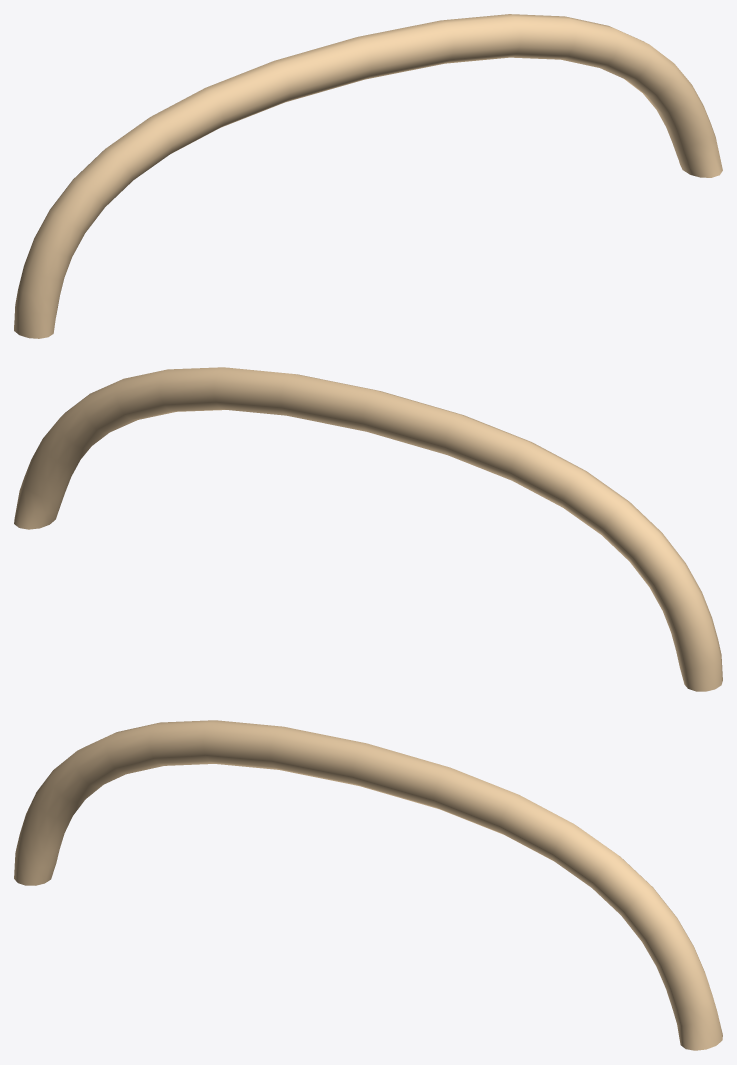
The model's file is chrome_arch.fbx.
The picture shows the model from 3 angles, top to bottom: view 1: azimuth 30°, elevation 25°; view 2: azimuth 150°, elevation 25°; view 3: azimuth 330°, elevation 25°; orthographic projection.
Parts seen in each view (by area): view 1: chrome_arch; view 2: chrome_arch; view 3: chrome_arch.
Part boxes in pixels (x1,y1,x2,y2): chrome_arch: [14, 14, 722, 338]; chrome_arch: [14, 367, 722, 691]; chrome_arch: [14, 720, 722, 1050].
Bounding box in the file's own units: 178 × 51.12 × 11.61.
